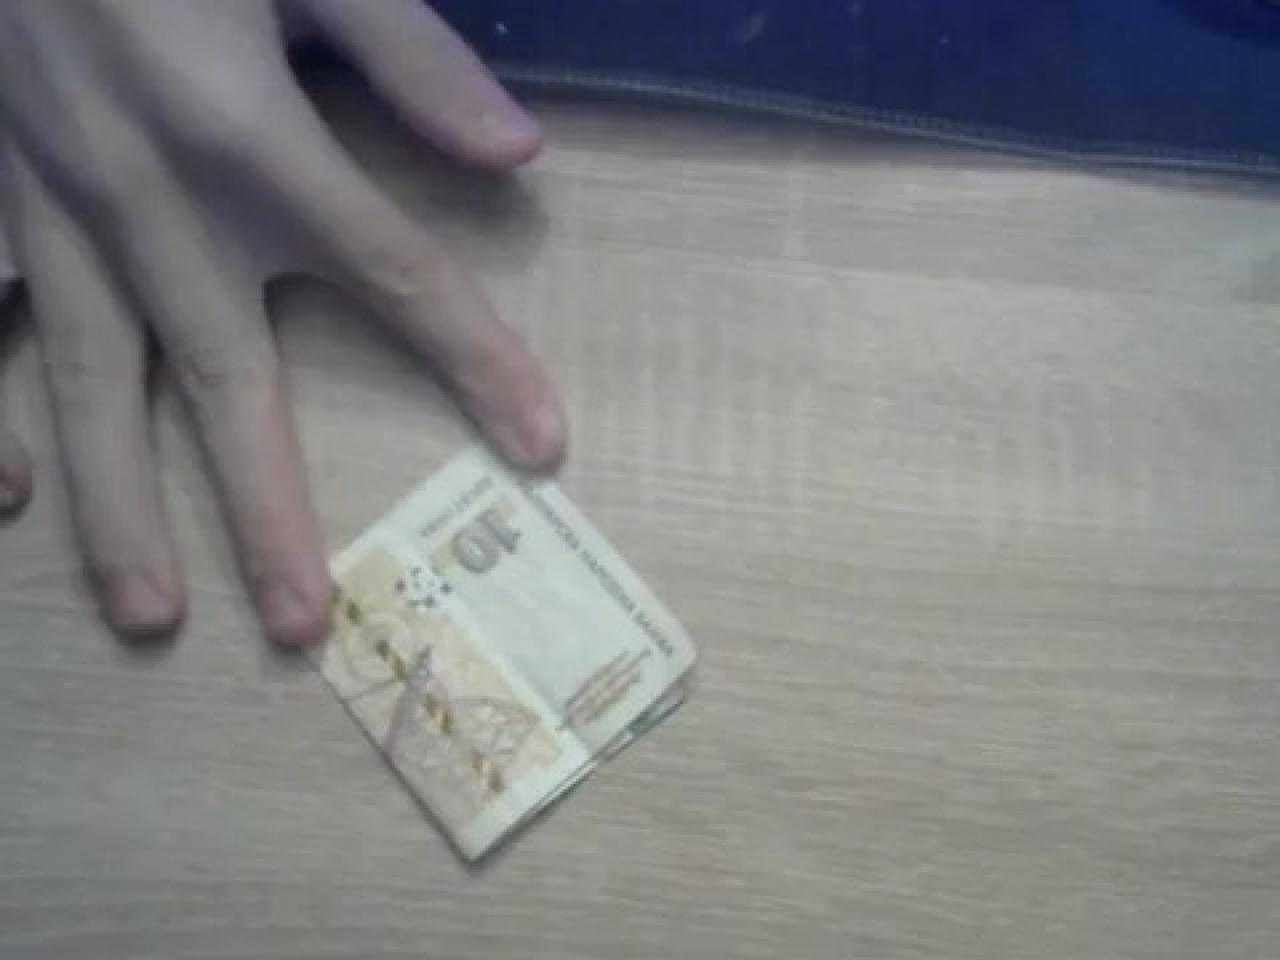10leva: (314, 437, 698, 867)
